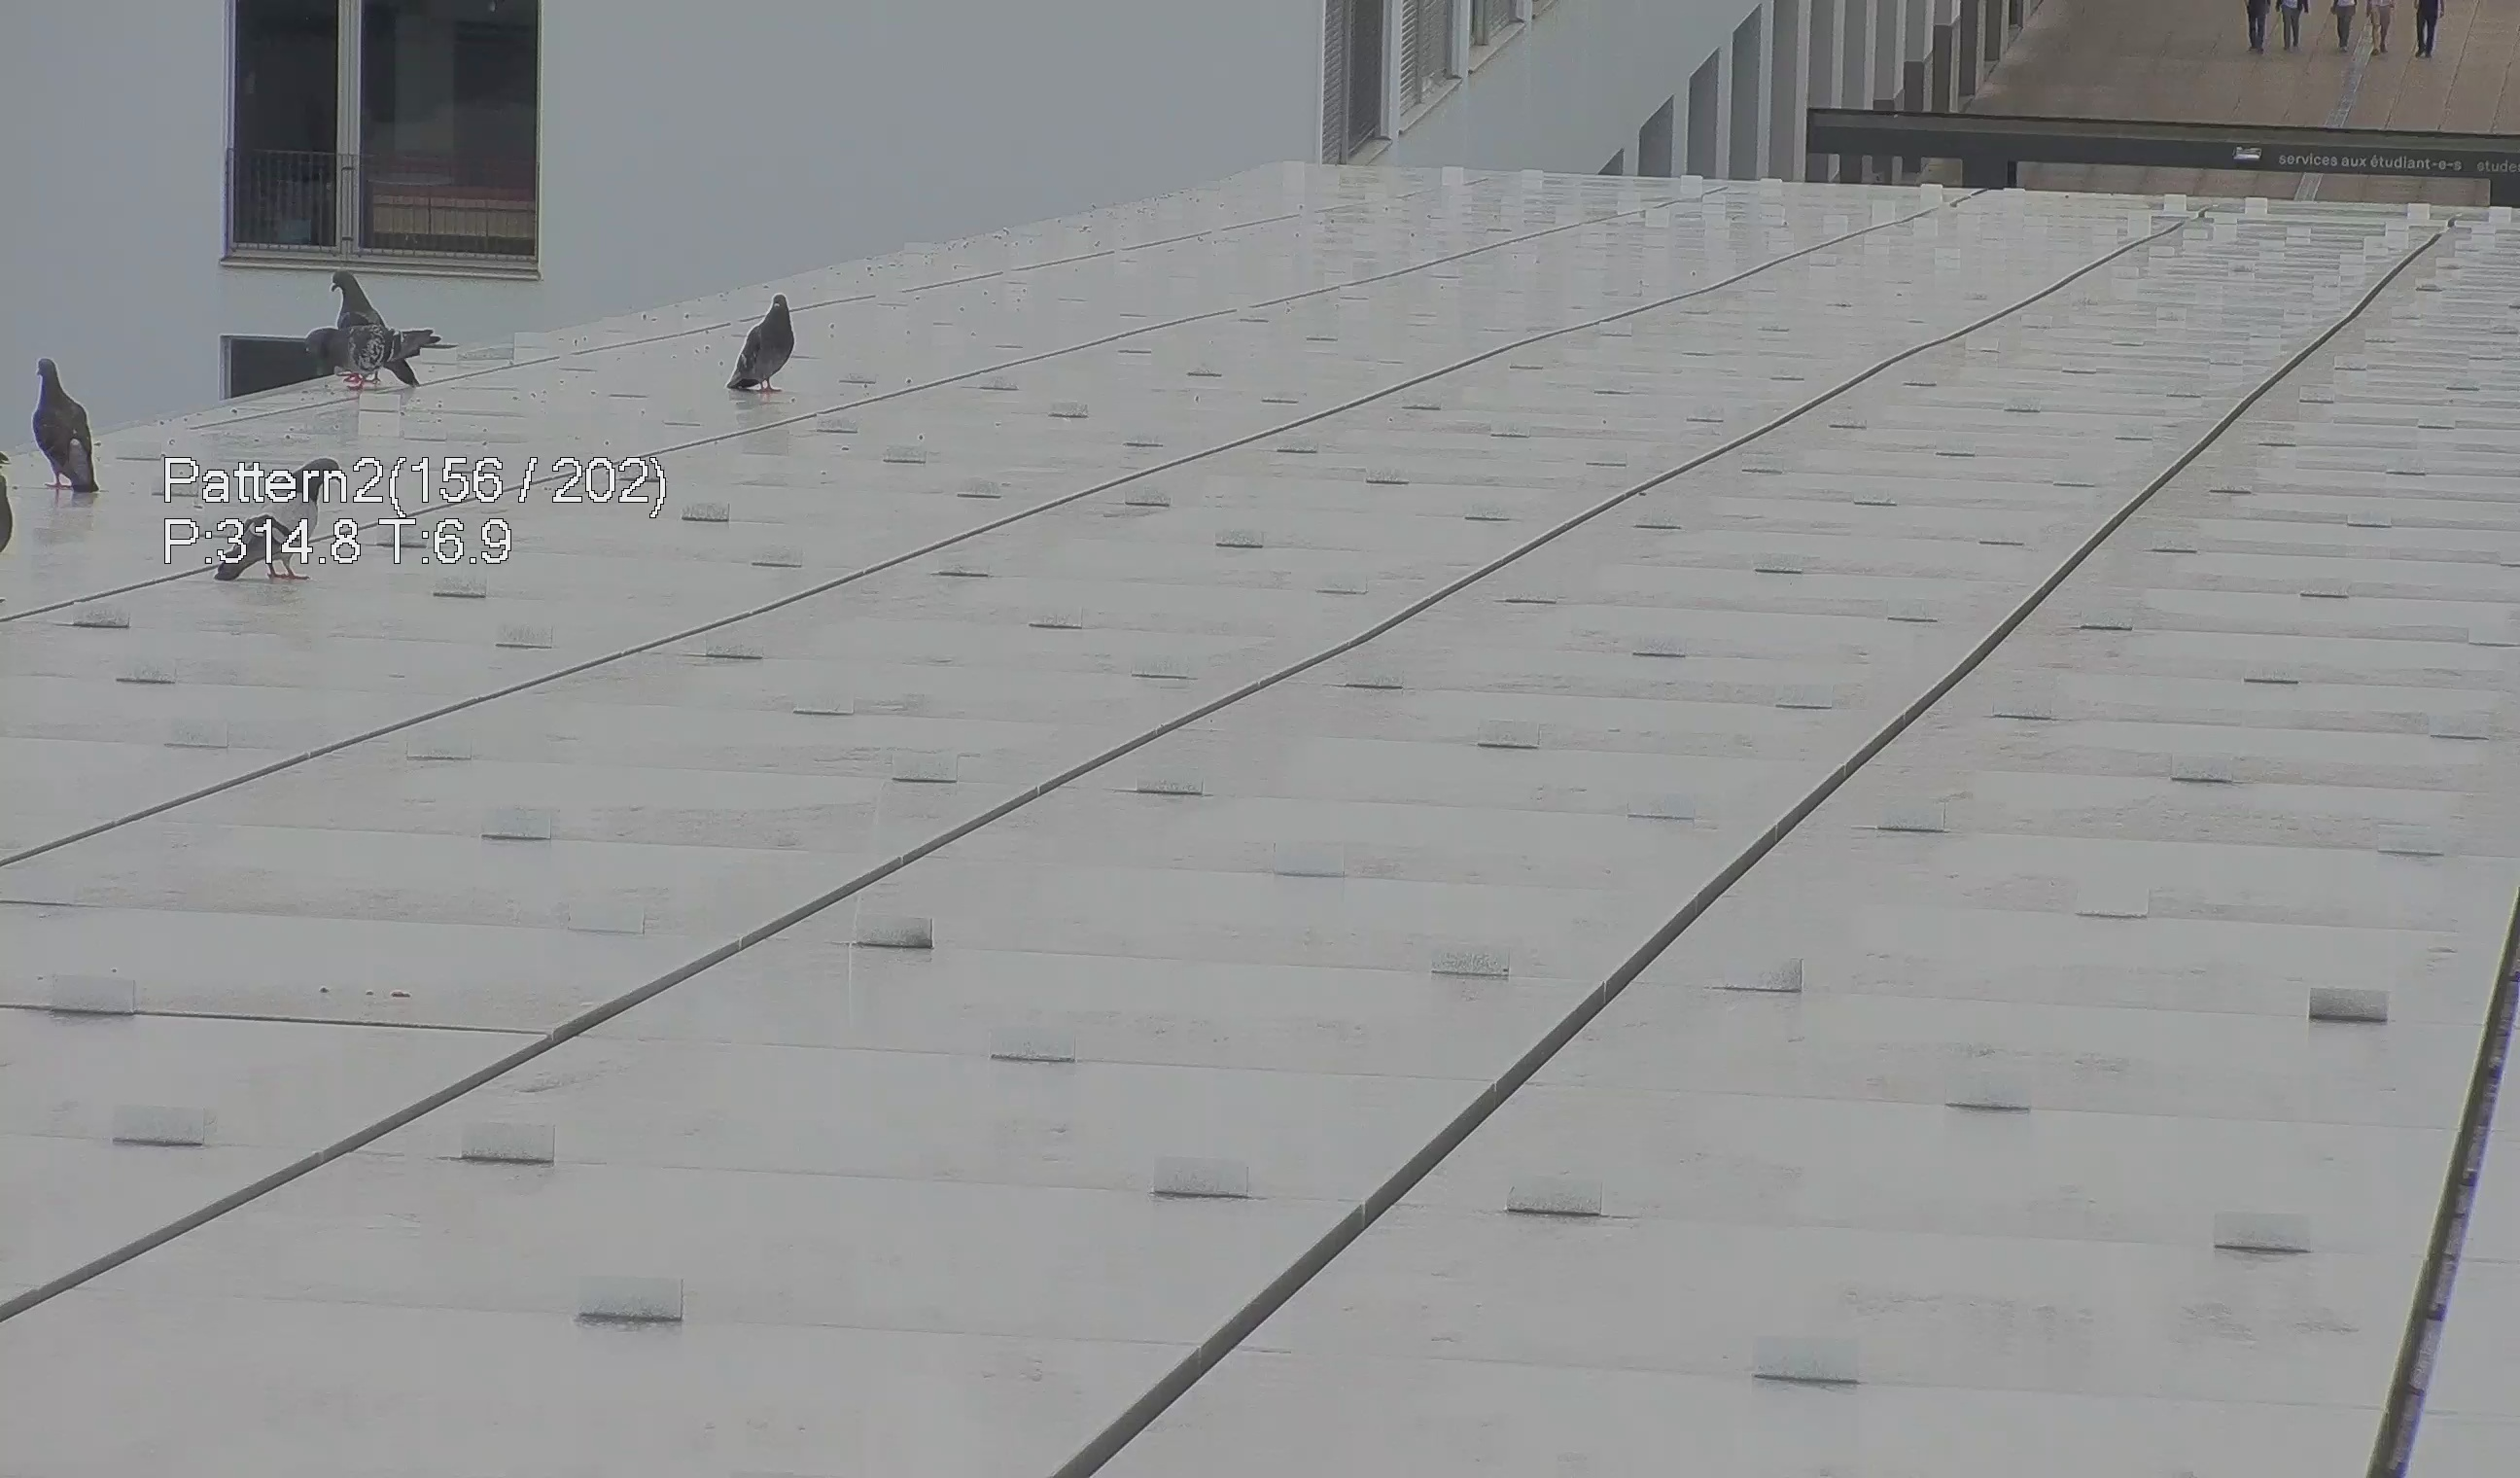Pigeon: (223, 457, 341, 584), (21, 355, 109, 503), (716, 283, 797, 392), (295, 326, 448, 382), (325, 262, 399, 327)
